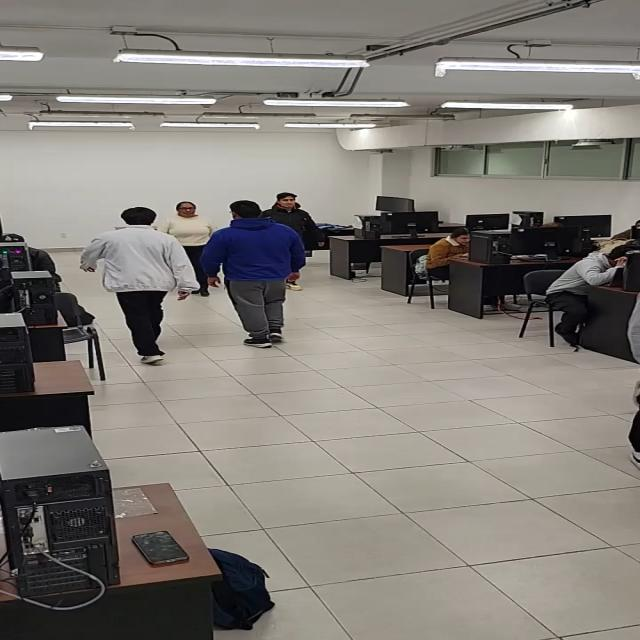Persona: (85, 205, 188, 366), (214, 200, 300, 349), (272, 186, 319, 292), (168, 199, 217, 298)
